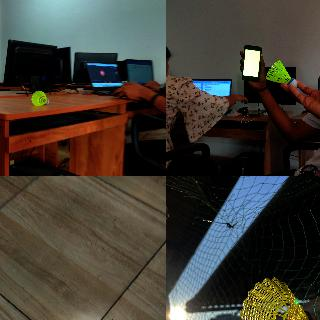shuttlecock: (239, 277, 320, 319), (265, 60, 297, 86), (31, 90, 49, 106)
